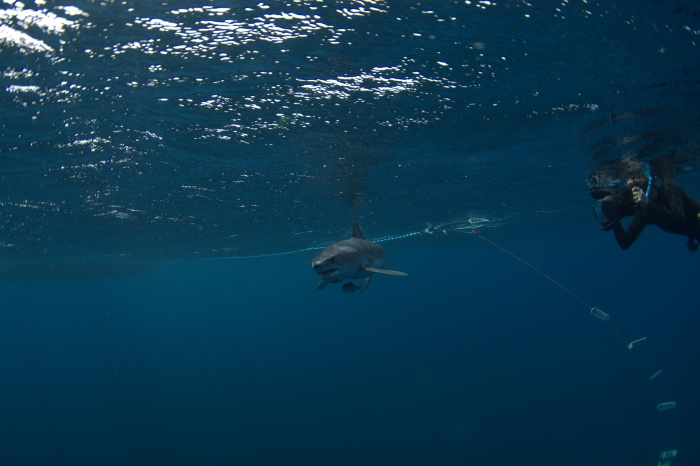Mako: (294, 216, 415, 304)
